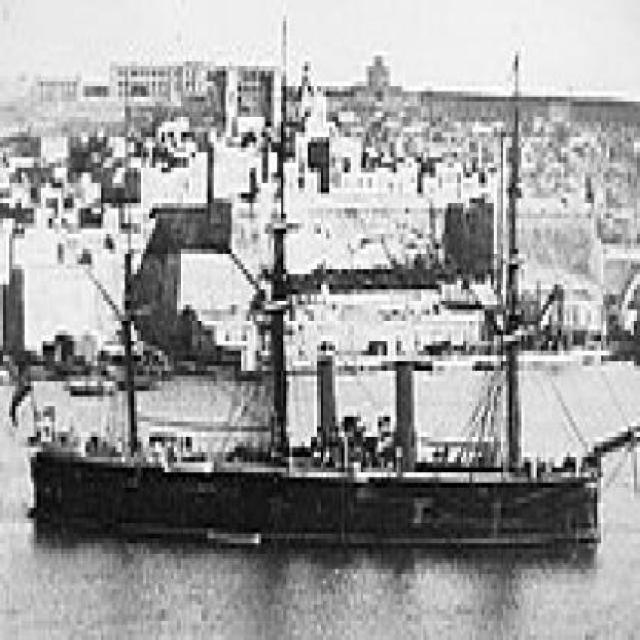warship2: (13, 16, 638, 565)
